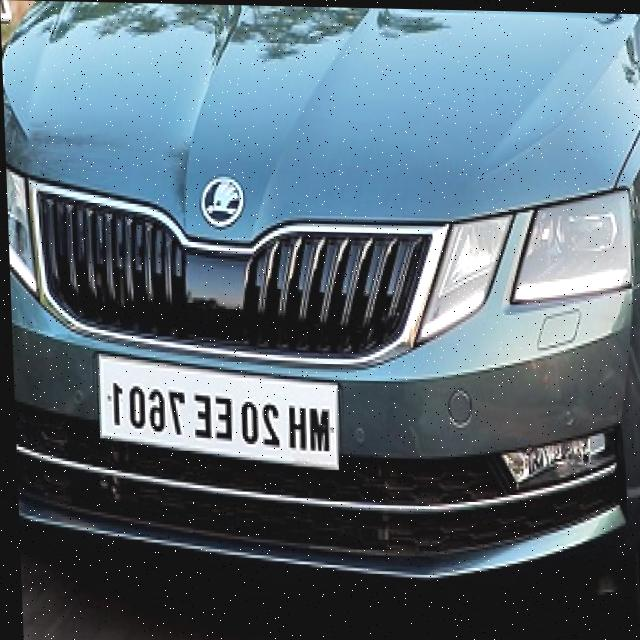plate: (91, 348, 343, 468)
